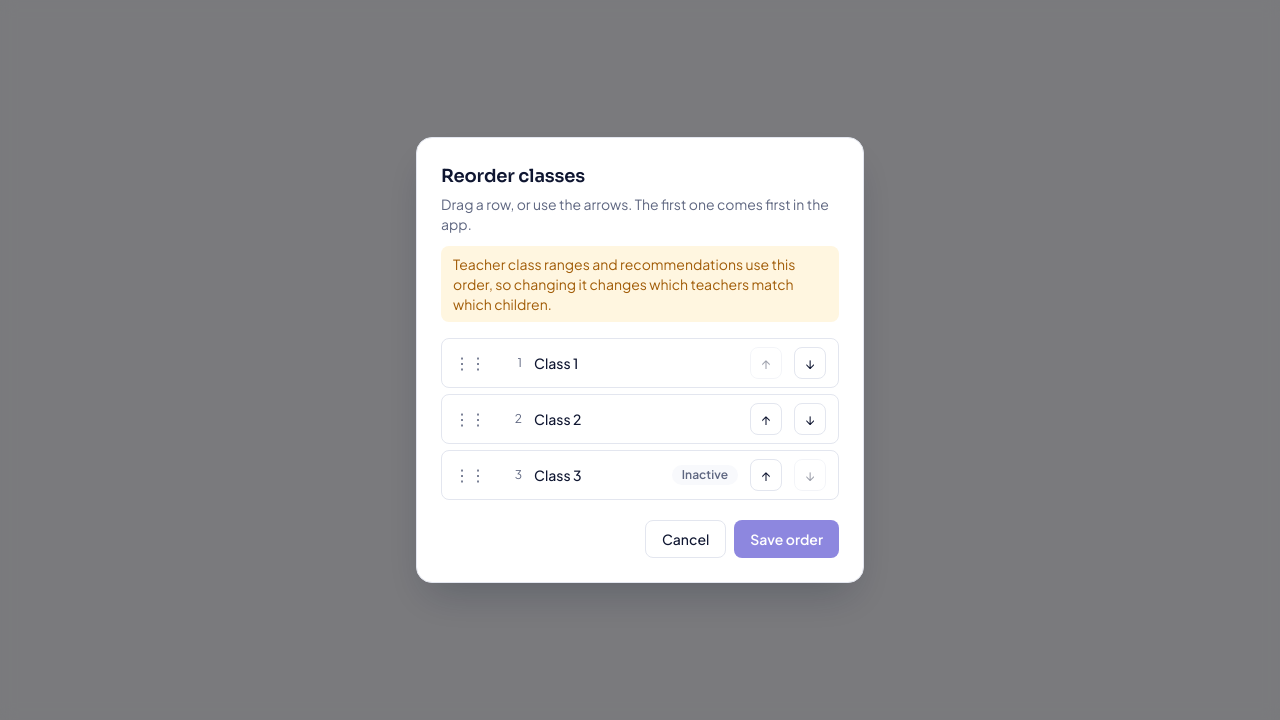
Scenario: ReorderDialog › goes back to "nothing to save" when the order is restored
This screenshot has width=1280, height=720.
Expected: the list is shown, [441,338,839,500]
Step 1. Click the button named "Move Class 2 down" → (810, 419), box [794,403,826,435]
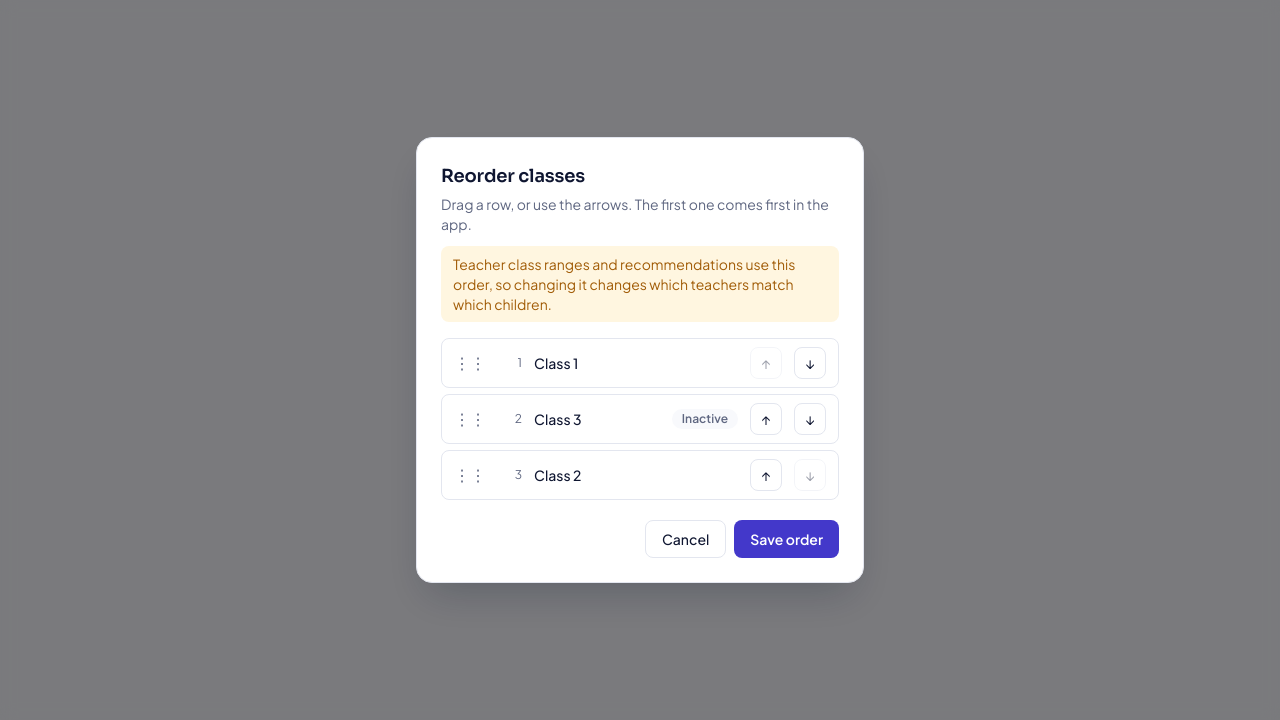
Expected: the button "Save order" is enabled, [734,520,839,558]
Step 2. Click the button named "Move Class 2 up" → (766, 475), box [750,459,782,491]
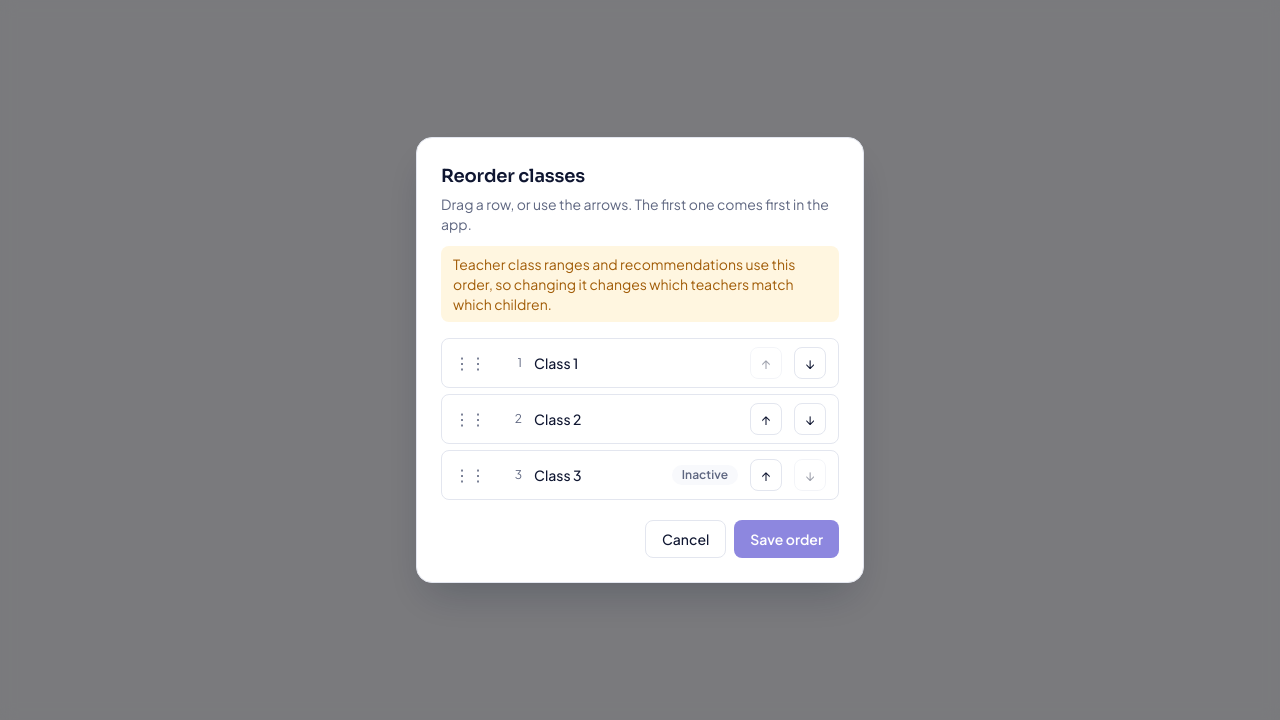
Expected: the button "Save order" is disabled, [734,520,839,558]
